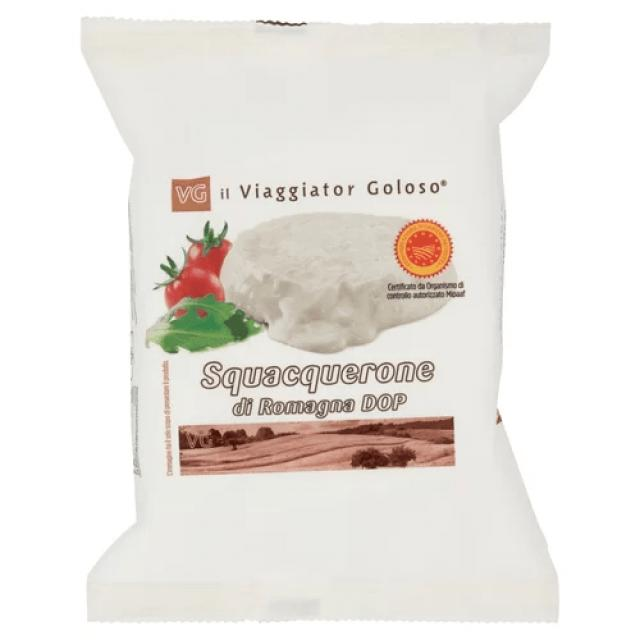Cheese: (77, 17, 563, 623)
